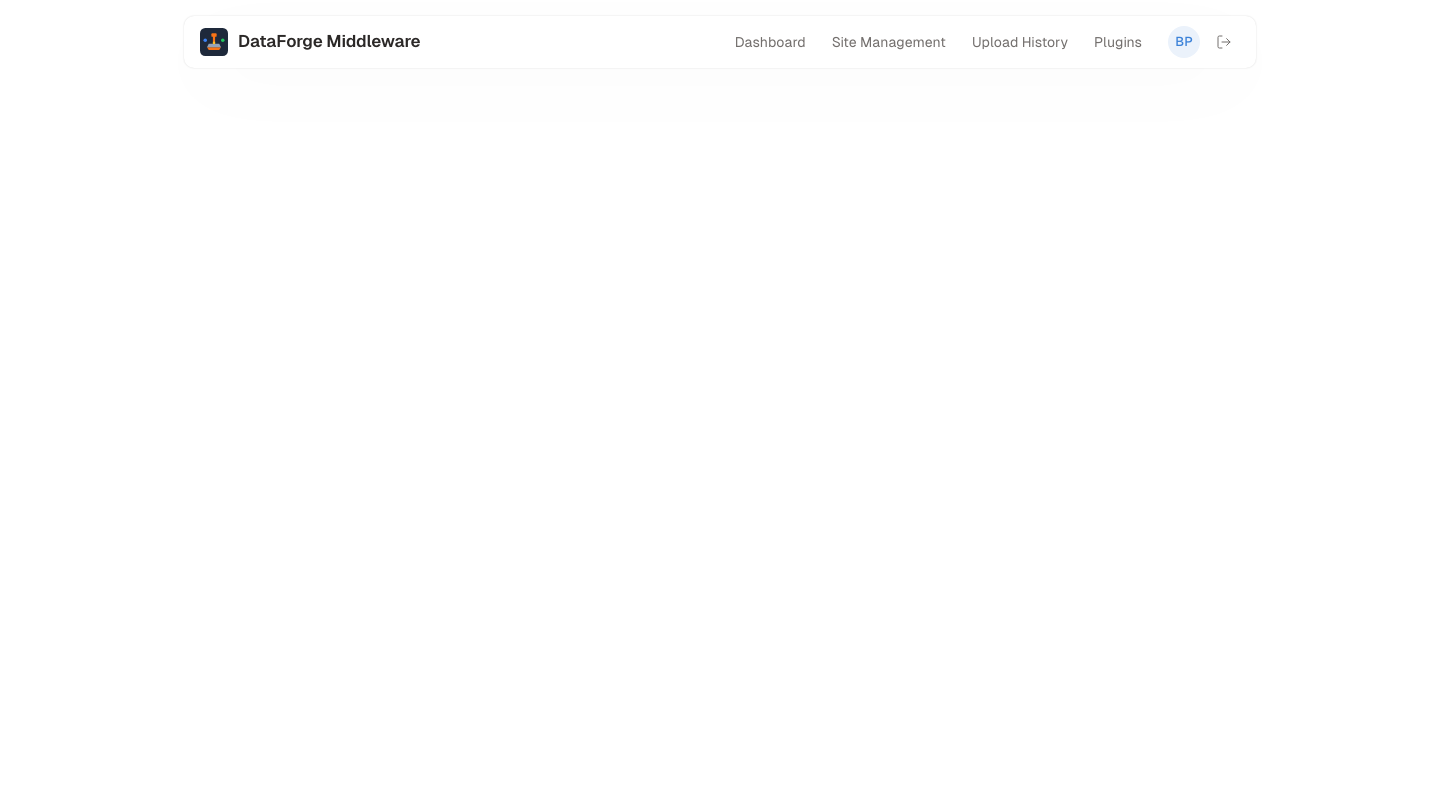
Test: Header (floating monitoring shell per prototype, T013) › opens the personal profile with safe Auth0 display fields
Click the button with aria-label "Open profile for Boris Pliss" at (1184, 42), box 1168,26 -> 1200,58
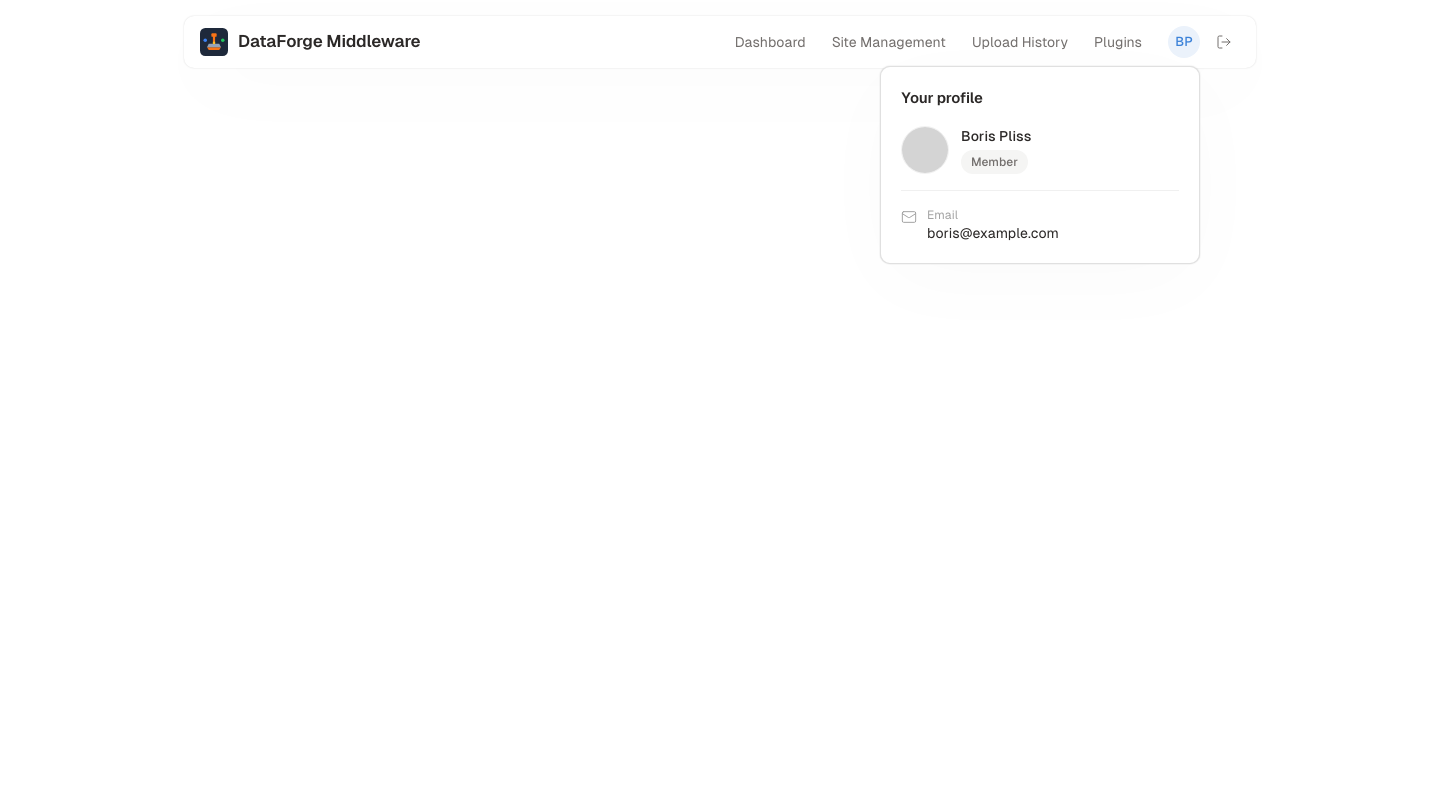
expect the text "Boris Pliss" is shown: met, box 961,126 -> 1031,146
expect the text "boris@example.com" is shown: met, box 927,222 -> 1059,242
expect the text "Member" is shown: met, box 961,150 -> 1028,174
